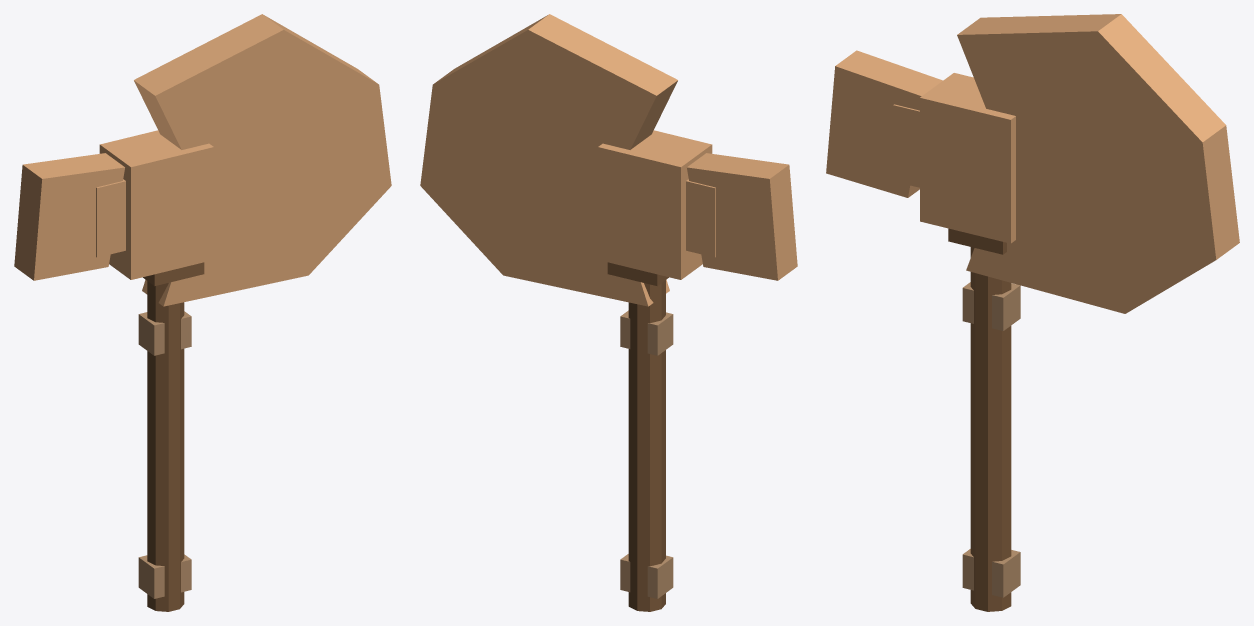
Rendered from copperAxe.glb.
3 renders of one model, left to right at view 1: azimuth 30°, elevation 25°; view 2: azimuth 150°, elevation 25°; view 3: azimuth 330°, elevation 25°, orthographic. The views are drawn at different scales.
Parts seen in each view (by area): view 1: AxeBlade, AxeEye, Handle, AxePoll, AxeHeadBridge, GripWrapHigh, GripWrapLow, ToolHeadSocket; view 2: AxeBlade, AxeEye, Handle, AxePoll, AxeHeadBridge, GripWrapLow, GripWrapHigh, ToolHeadSocket; view 3: AxeBlade, AxeEye, Handle, AxePoll, AxeHeadBridge, GripWrapLow, GripWrapHigh, ToolHeadSocket.
Part boxes in pixels (x1,y1,x2,y2): AxeBlade: [134, 14, 391, 306]; AxeEye: [99, 130, 213, 279]; Handle: [147, 281, 184, 611]; AxePoll: [14, 153, 124, 280]; AxeHeadBridge: [96, 140, 296, 257]; GripWrapHigh: [138, 311, 191, 355]; GripWrapLow: [138, 554, 191, 598]; ToolHeadSocket: [143, 262, 204, 285]; AxeBlade: [420, 14, 677, 306]; AxeEye: [598, 130, 712, 279]; Handle: [628, 280, 665, 611]; AxePoll: [687, 153, 797, 280]; AxeHeadBridge: [515, 140, 715, 257]; GripWrapLow: [620, 554, 673, 598]; GripWrapHigh: [620, 310, 673, 355]; ToolHeadSocket: [607, 262, 668, 285]; AxeBlade: [957, 14, 1239, 313]; AxeEye: [920, 73, 1015, 243]; Handle: [970, 247, 1011, 611]; AxePoll: [826, 50, 942, 197]; AxeHeadBridge: [893, 104, 1111, 234]; GripWrapLow: [962, 549, 1020, 597]; GripWrapHigh: [962, 282, 1020, 330]; ToolHeadSocket: [948, 228, 1006, 254].
Bounding box in the file's own units: 0.86 × 1.28 × 0.13.
